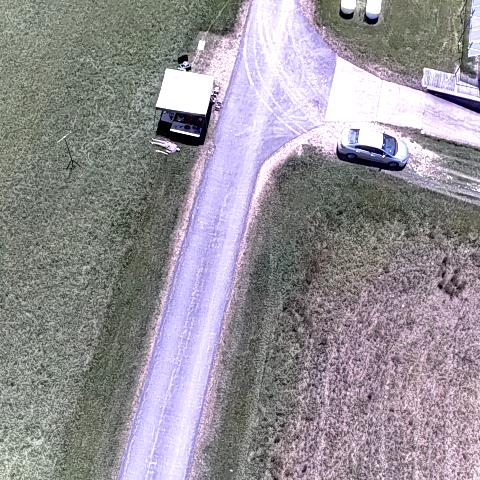person: (147, 138, 181, 153)
